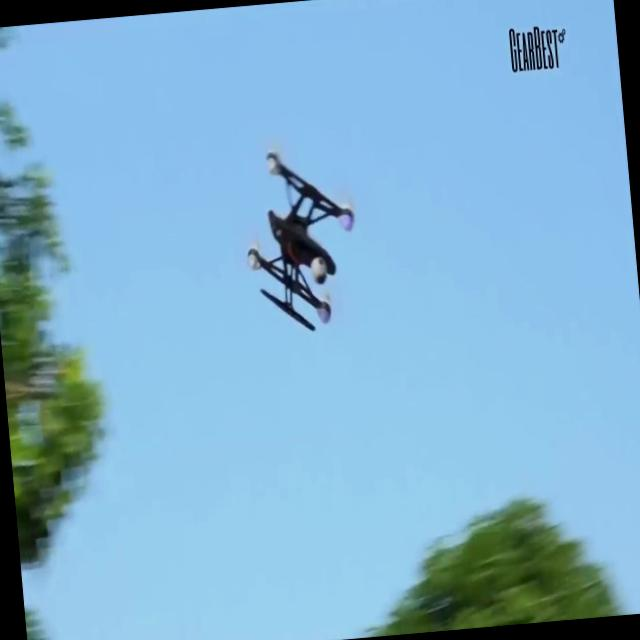drone: (236, 140, 366, 342)
